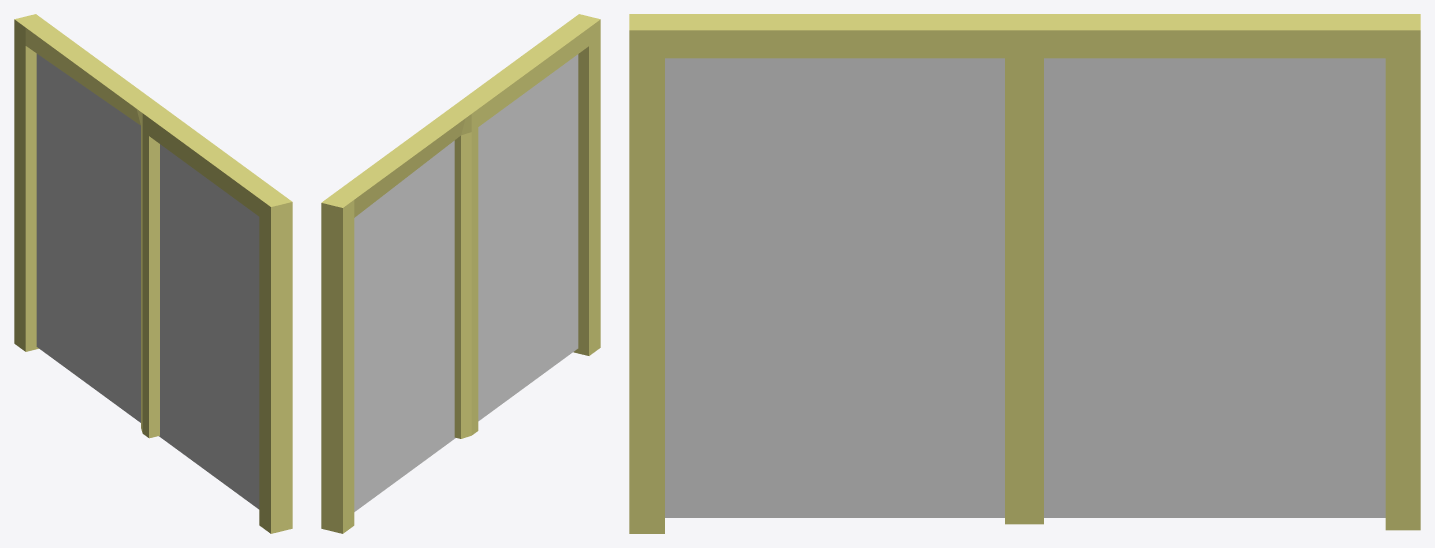
The model's file is gate.fbx.
The picture shows the model from 3 angles, left to right: view 1: azimuth 30°, elevation 25°; view 2: azimuth 150°, elevation 25°; view 3: azimuth 270°, elevation 25°; orthographic projection. The views are drawn at different scales.
Parts seen in each view (by area): view 1: Gate, Gate.001; view 2: Gate, Gate.001; view 3: Gate, Gate.001.
Boxes of the visible parts, x1=… form: Gate: x1=36, y1=53, x2=259, y2=509; Gate.001: x1=14, y1=14, x2=292, y2=533; Gate: x1=354, y1=54, x2=578, y2=511; Gate.001: x1=321, y1=14, x2=600, y2=533; Gate: x1=665, y1=58, x2=1385, y2=517; Gate.001: x1=629, y1=14, x2=1420, y2=533.
Size of the model in its own units: 48.3 by 699 by 995.
